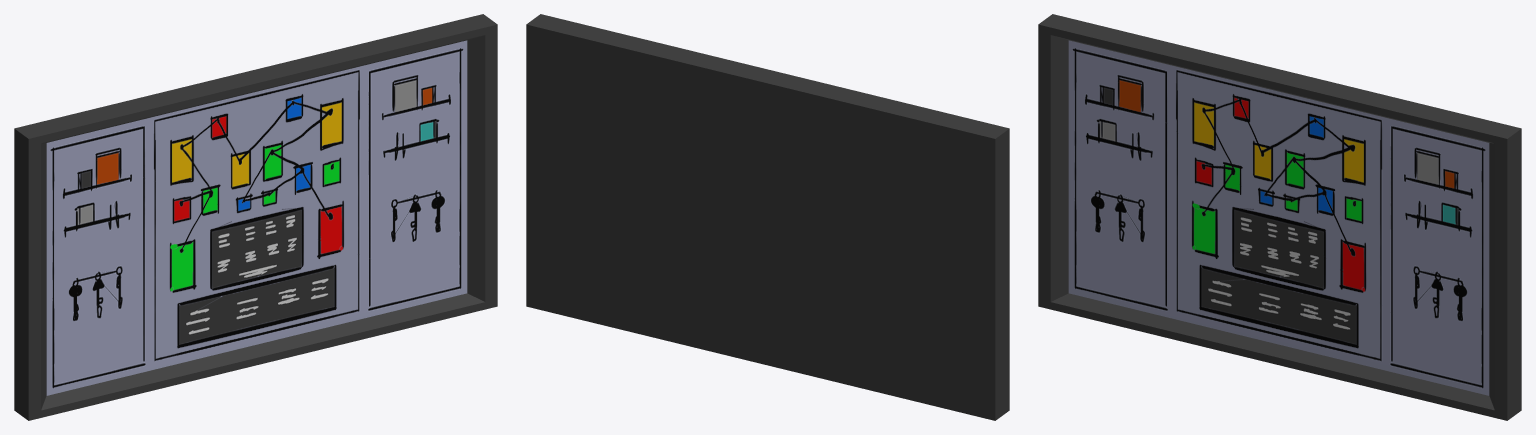
File: Board.fbx
3 views of the same model, side by side, from view 1: azimuth 30°, elevation 25°; view 2: azimuth 150°, elevation 25°; view 3: azimuth 330°, elevation 25° (orthographic).
Parts seen in each view (by area): view 1: Board; view 2: Board; view 3: Board.
Part boxes in pixels (<box>): Board: <box>14,14,497,420</box>; Board: <box>526,14,1009,420</box>; Board: <box>1038,14,1521,420</box>.
Size of the model in its own units: 100 by 57.57 by 5.32.
